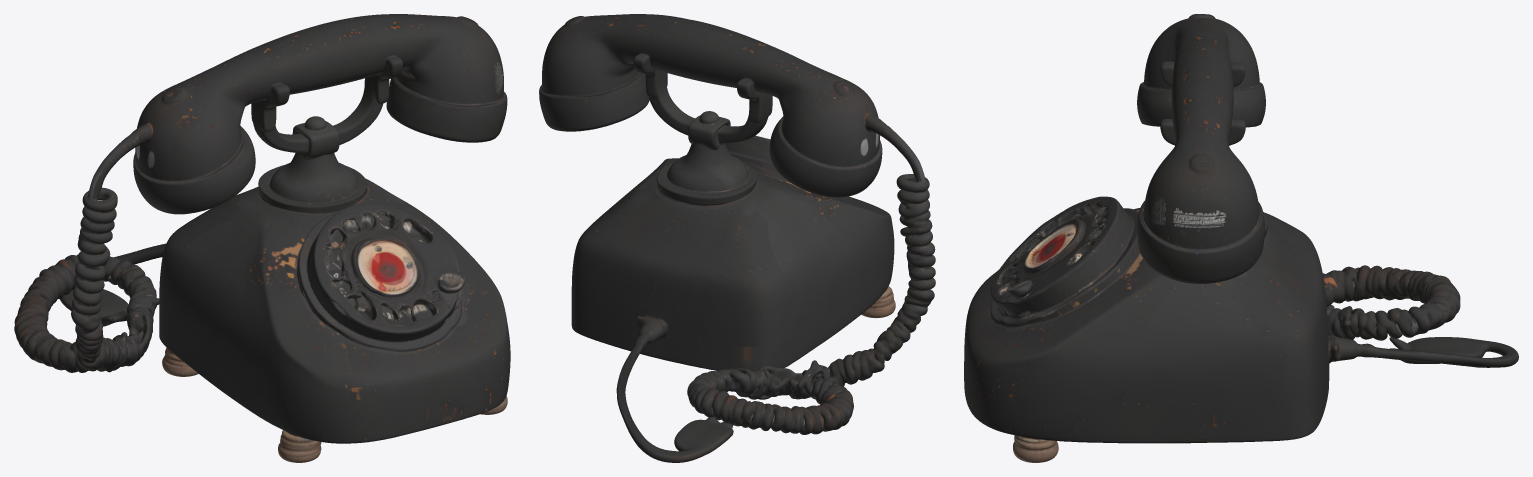
Rendered from rotart_phone.glb.
The picture shows the model from 3 angles, left to right: view 1: azimuth 30°, elevation 25°; view 2: azimuth 150°, elevation 25°; view 3: azimuth 270°, elevation 25°; orthographic projection. The views are drawn at different scales.
Parts seen in each view (by area): view 1: tripo_node_c86d2fd0-82dc-4189-8ebe-21d9c83e93cd; view 2: tripo_node_c86d2fd0-82dc-4189-8ebe-21d9c83e93cd; view 3: tripo_node_c86d2fd0-82dc-4189-8ebe-21d9c83e93cd.
Part boxes in pixels (x1,y1,x2,y2): tripo_node_c86d2fd0-82dc-4189-8ebe-21d9c83e93cd: (14,14,510,462); tripo_node_c86d2fd0-82dc-4189-8ebe-21d9c83e93cd: (539,14,935,462); tripo_node_c86d2fd0-82dc-4189-8ebe-21d9c83e93cd: (964,14,1518,462).
Bounding box in the file's own units: 0.912 × 0.7083 × 1.
1 material, 1 textured.
